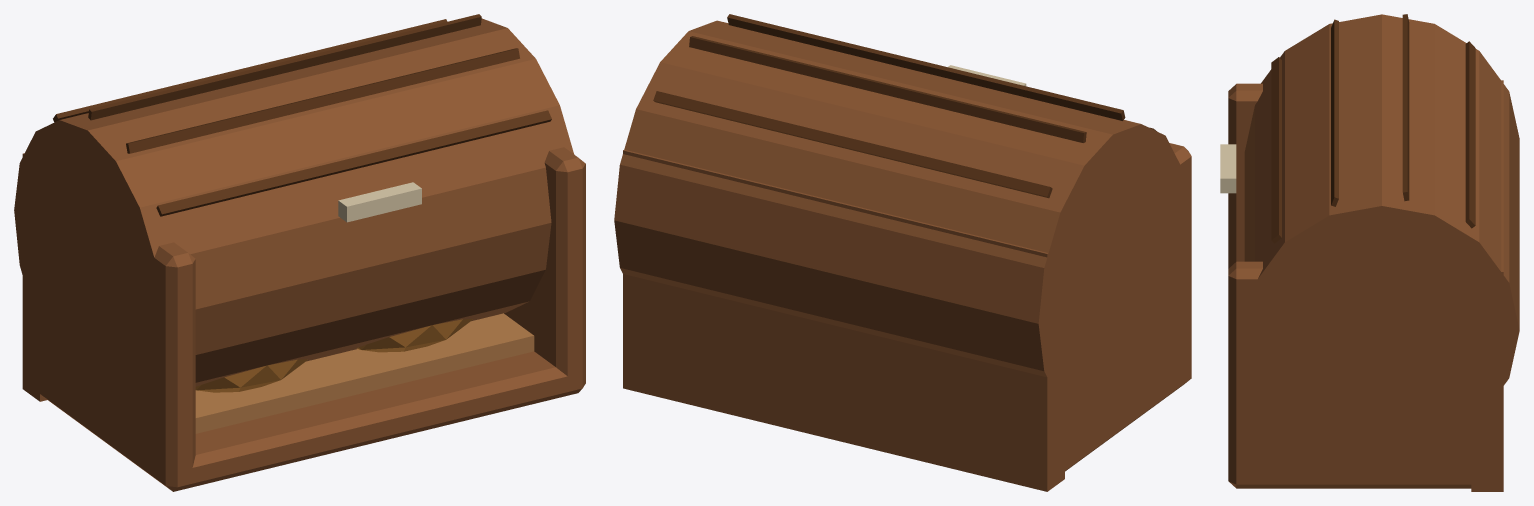
Rendered from bread_box.glb.
3 renders of one model, left to right at view 1: azimuth 30°, elevation 25°; view 2: azimuth 150°, elevation 25°; view 3: azimuth 270°, elevation 25°, orthographic. The views are drawn at different scales.
Parts seen in each view (by area): view 1: bread_box; view 2: bread_box; view 3: bread_box.
Boxes of the visible parts, x1,y1,x2,y2 form: bread_box: [14, 14, 585, 491]; bread_box: [614, 14, 1191, 491]; bread_box: [1220, 14, 1519, 491].
Size of the model in its own units: 0.56 by 0.3998 by 0.37.
